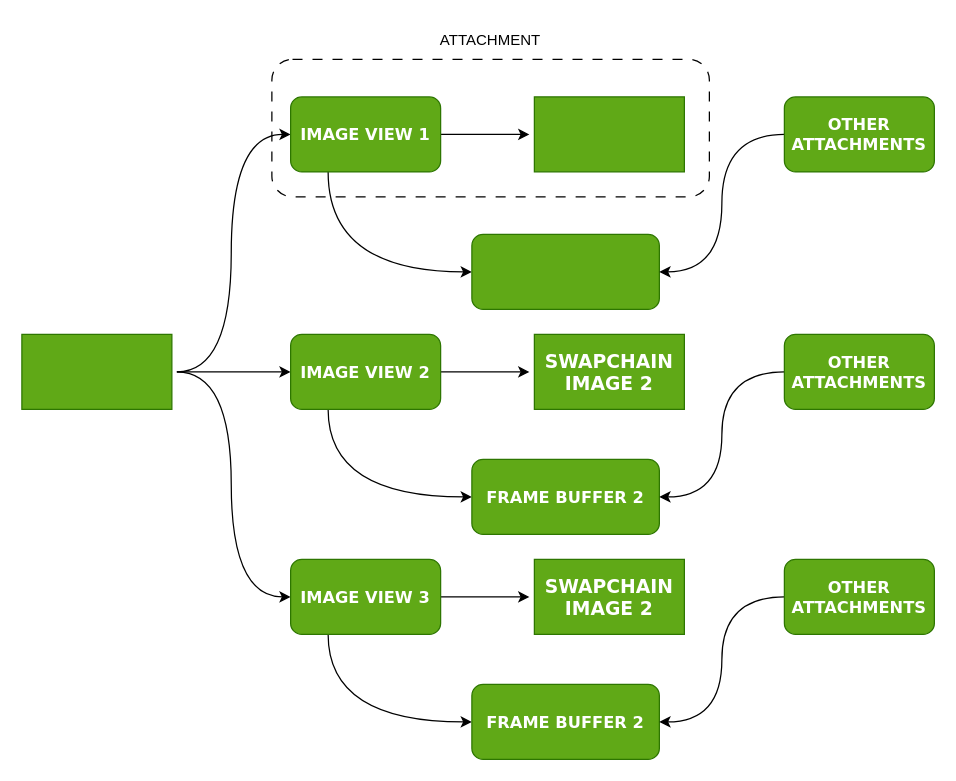
Image size: 956x781. Some labels were removed from this diagram. The shapes that lost their labels are listed below. From the top down, each one's centre as x and y in pixels, then its label:
the point at 608,134: SWAPCHAIN IMAGE 1
the point at 565,271: FRAME BUFFER 1
the point at 96,371: SWAPCHAIN
